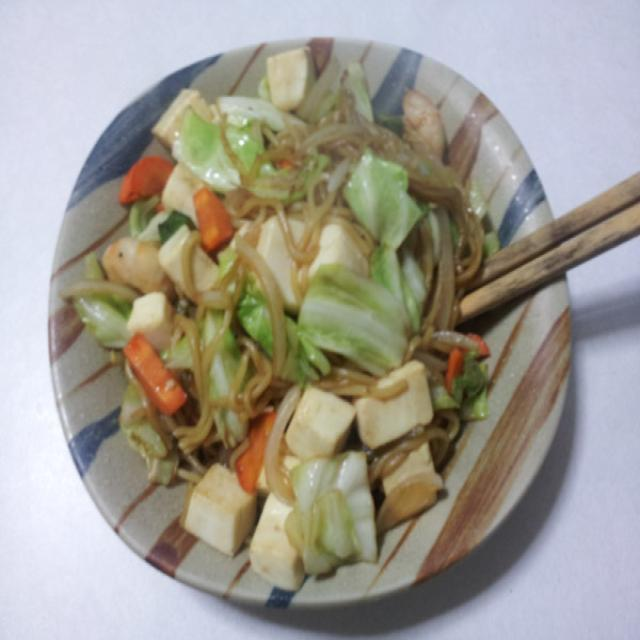蔬菜料理: (59, 34, 592, 626)
